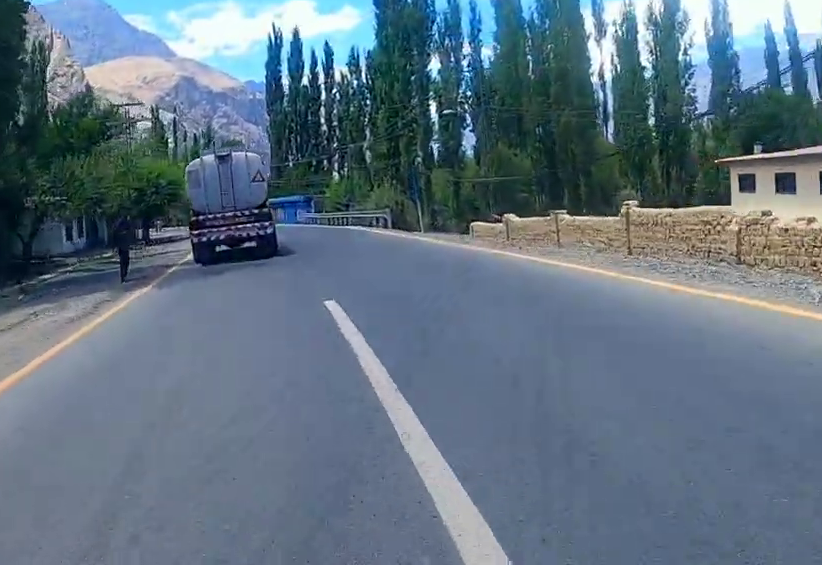left: (262, 269, 690, 527)
